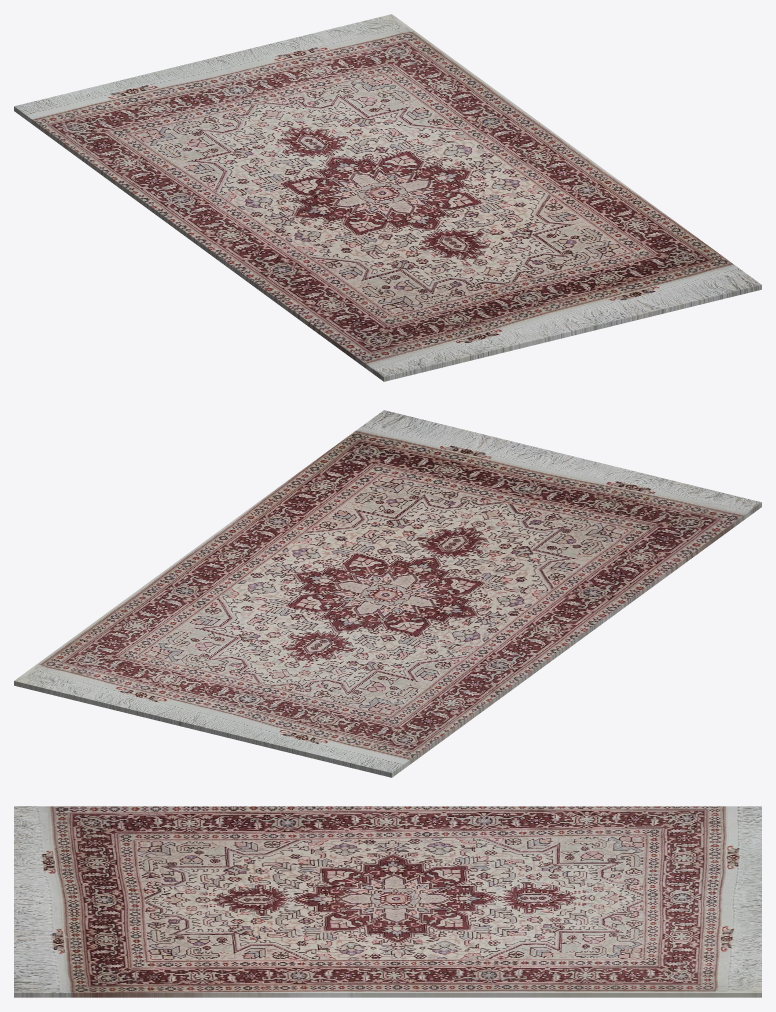
The picture shows the model from 3 angles, top to bottom: view 1: azimuth 30°, elevation 25°; view 2: azimuth 150°, elevation 25°; view 3: azimuth 270°, elevation 25°; orthographic projection.
Size of the model in its own units: 0.141 by 0.00168 by 0.239.
Materials: 1 (1 with a texture image).
